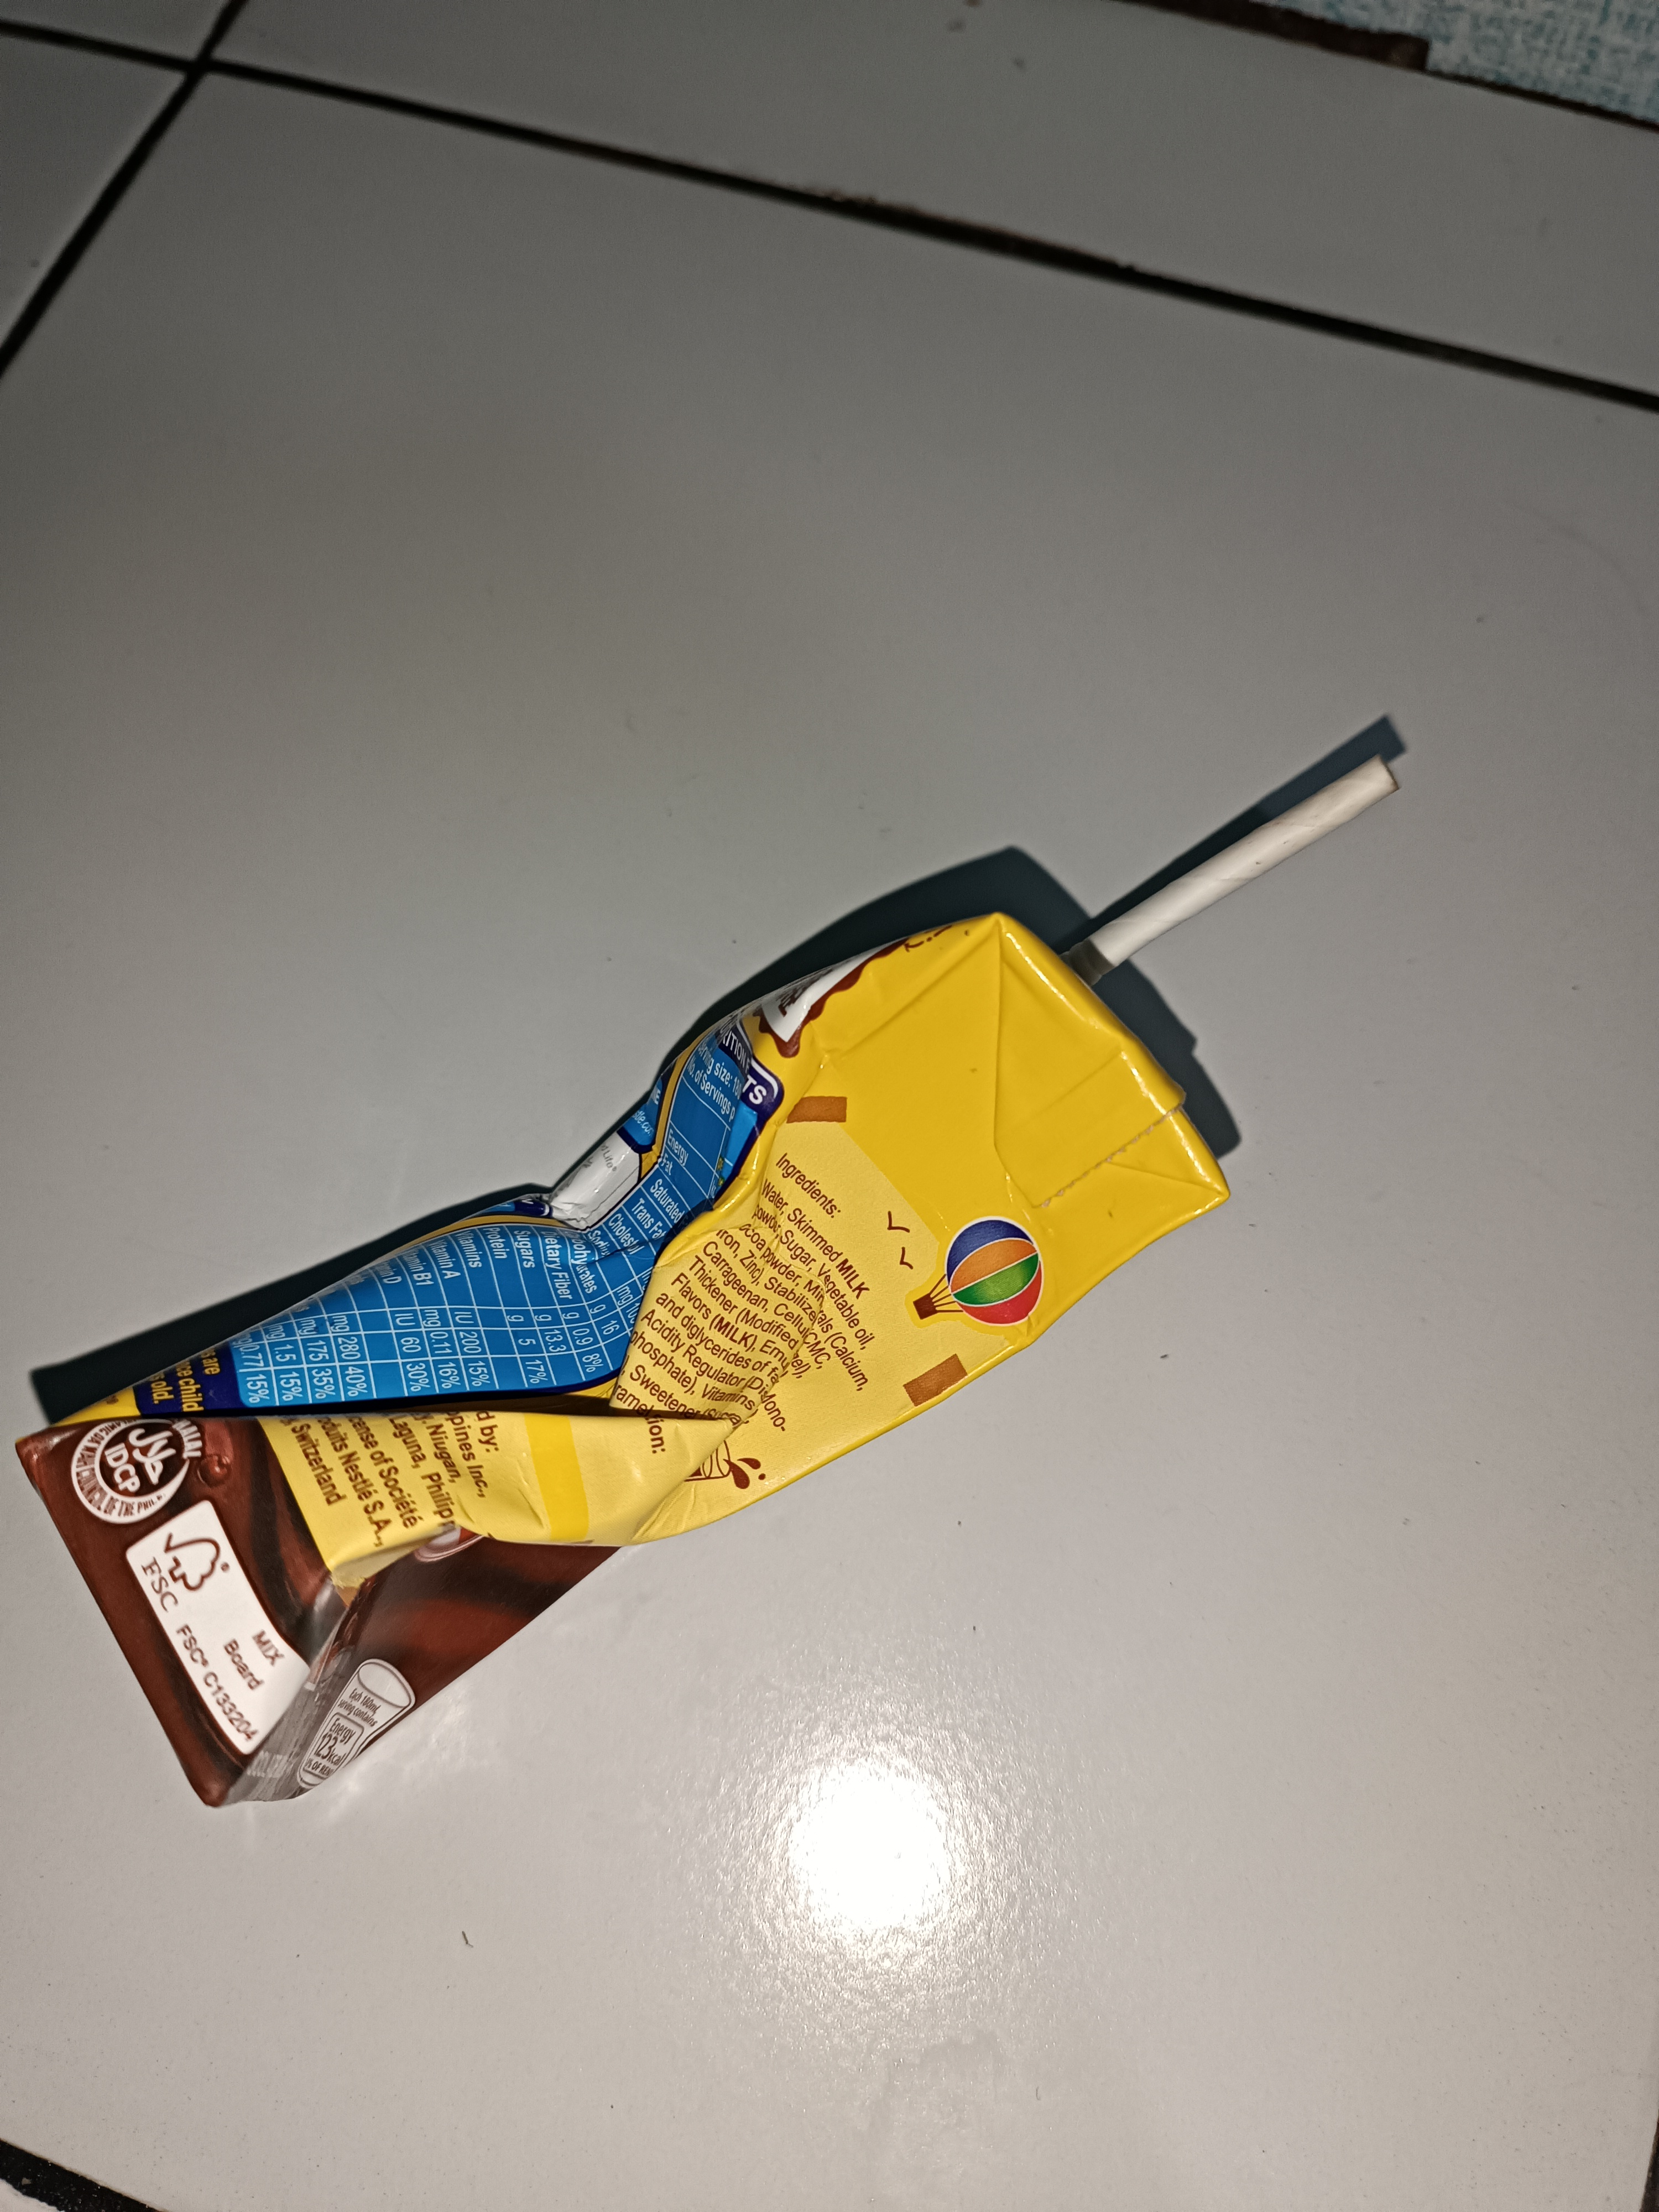Juice Box: (0, 601, 1467, 1813)
